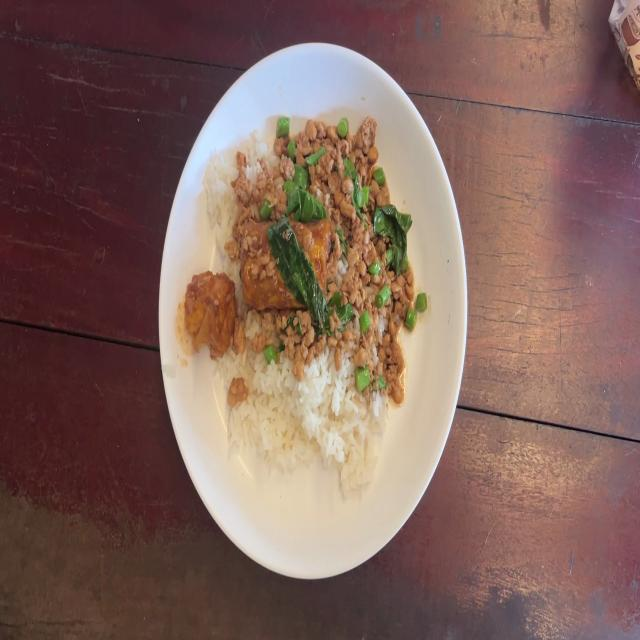01rice: (223, 364, 385, 485)
fried_tofo: (241, 220, 329, 304), (184, 273, 234, 352)
minced_pork: (235, 118, 410, 219), (330, 220, 420, 398)
stir_fried_basil: (190, 112, 427, 518)
